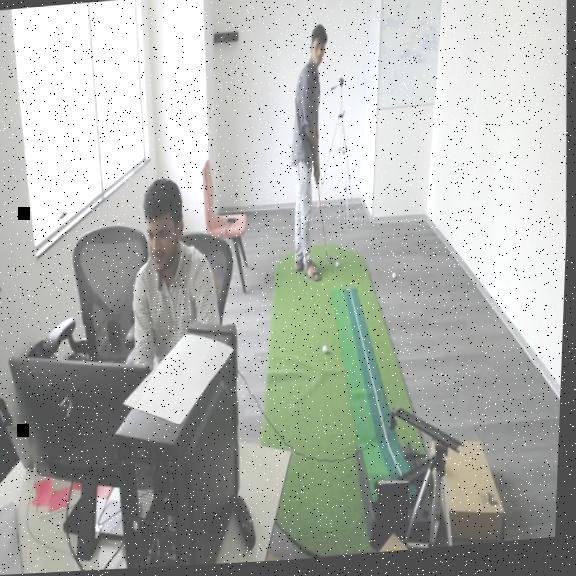ClubHead: (323, 245, 339, 267)
GolfBall: (390, 271, 401, 289), (323, 343, 334, 360), (336, 260, 343, 274)
